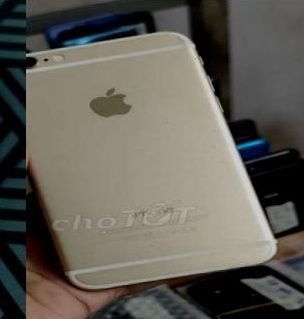scratch: (203, 141, 222, 153)
